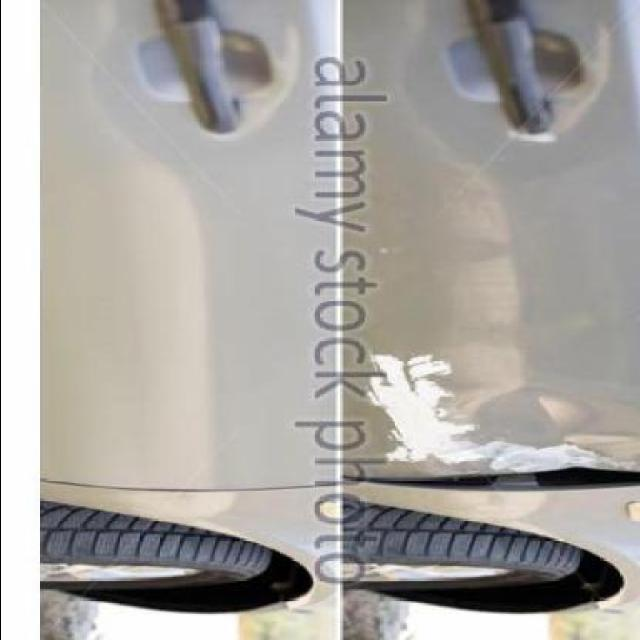doorouter-dent: (330, 0, 640, 495)
